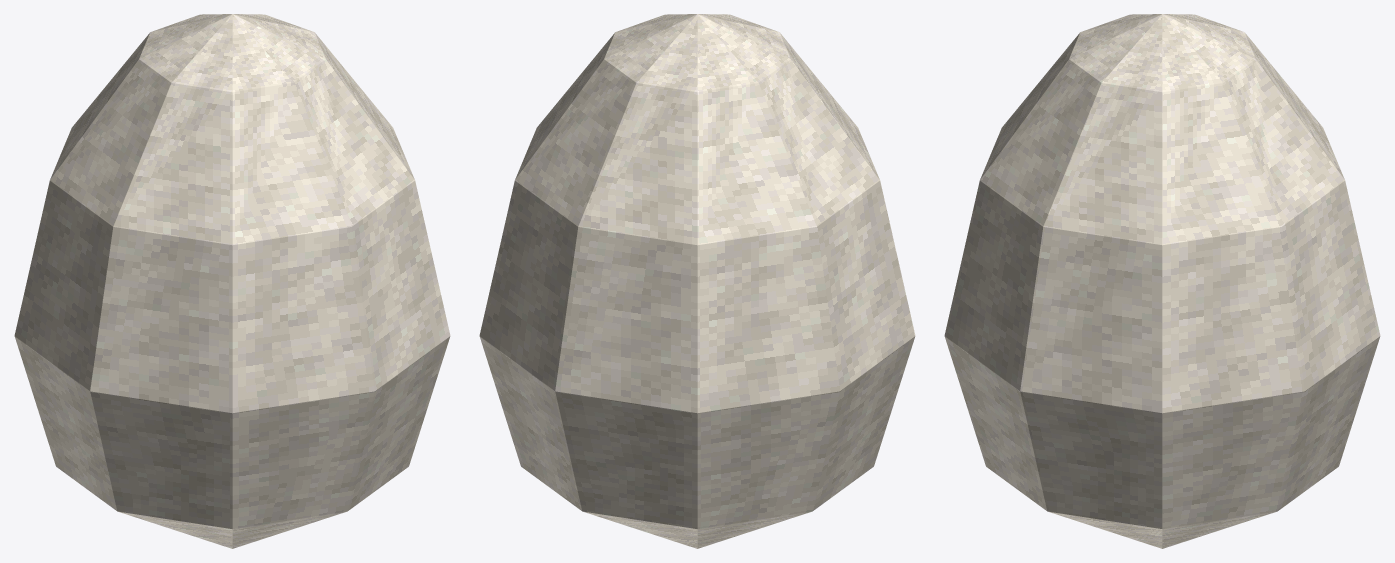
Rendered from dente_de_alho.glb.
3 renders of one model, left to right at view 1: azimuth 30°, elevation 25°; view 2: azimuth 150°, elevation 25°; view 3: azimuth 270°, elevation 25°, orthographic.
Parts seen in each view (by area): view 1: dente_de_alho; view 2: dente_de_alho; view 3: dente_de_alho.
Part boxes in pixels (x1=…): dente_de_alho: x1=14, y1=14, x2=450, y2=548; dente_de_alho: x1=479, y1=14, x2=915, y2=548; dente_de_alho: x1=944, y1=14, x2=1380, y2=548.
Size of the model in its own units: 0.2037 by 0.28 by 0.2068.
1 material, 1 textured.
